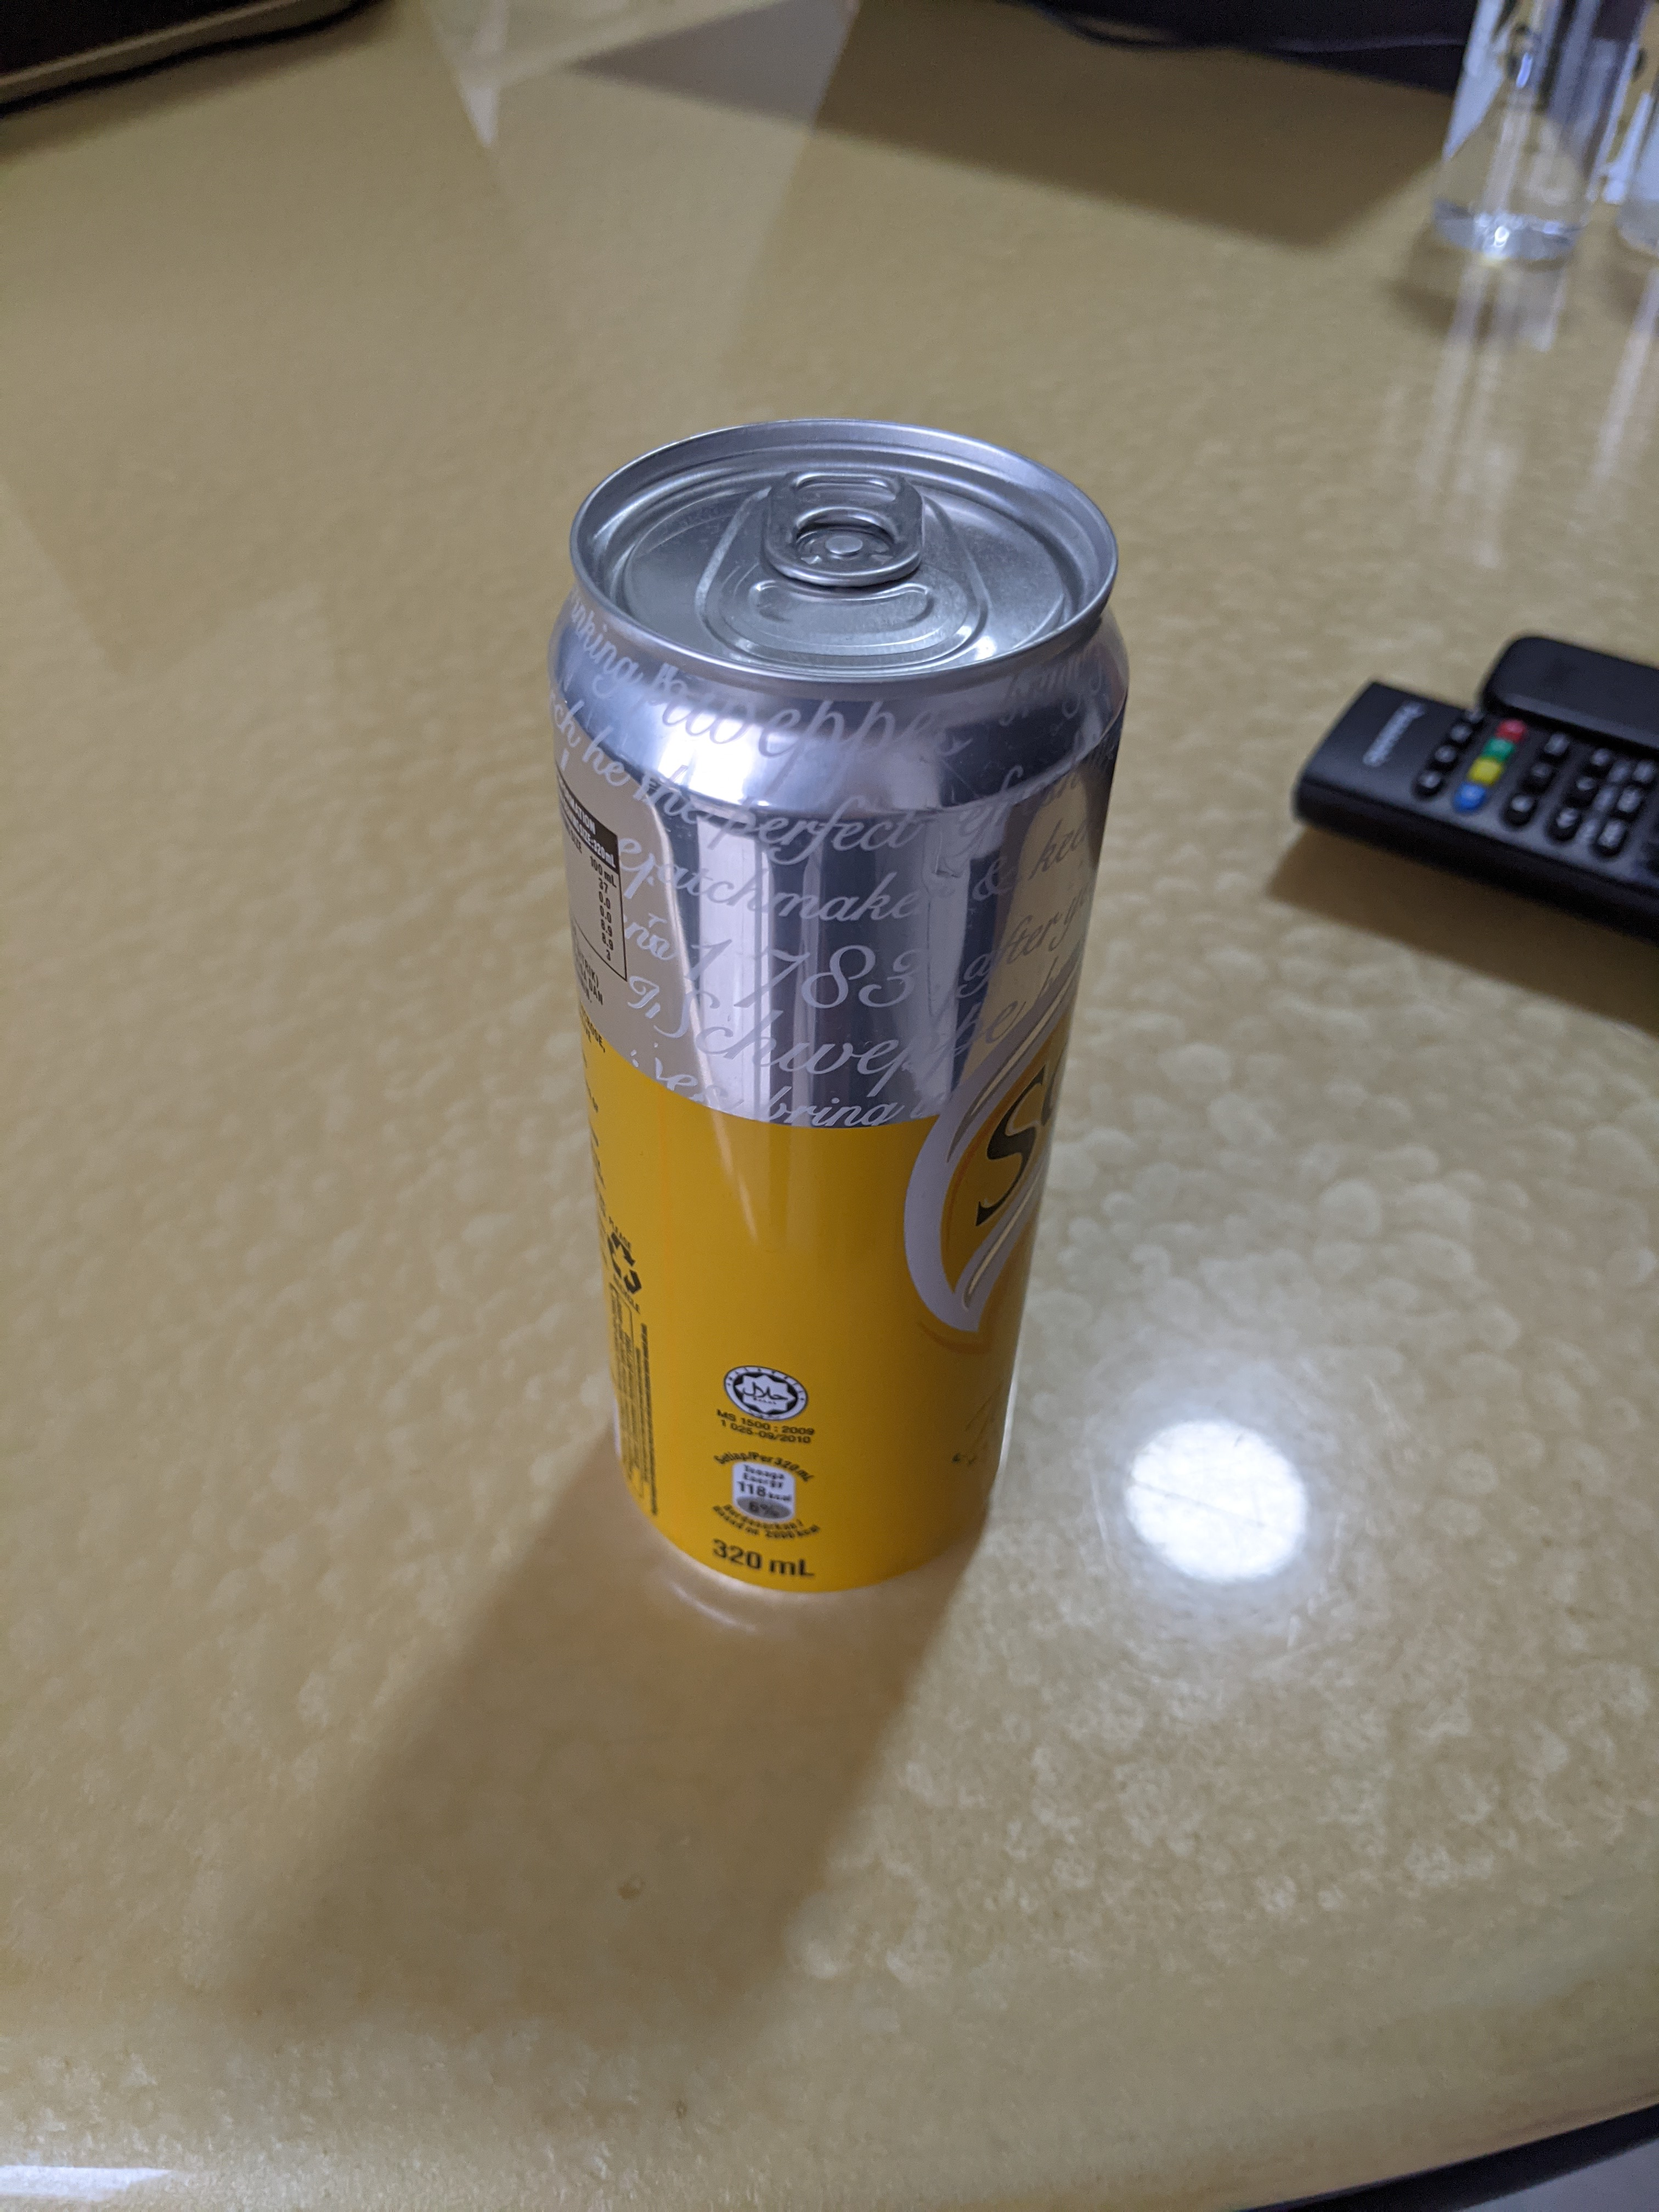schweppes drink can tonic water: (521, 394, 1150, 1627)
